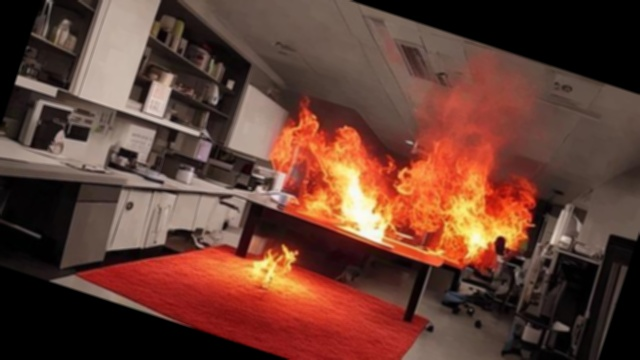fire: (245, 28, 569, 307)
